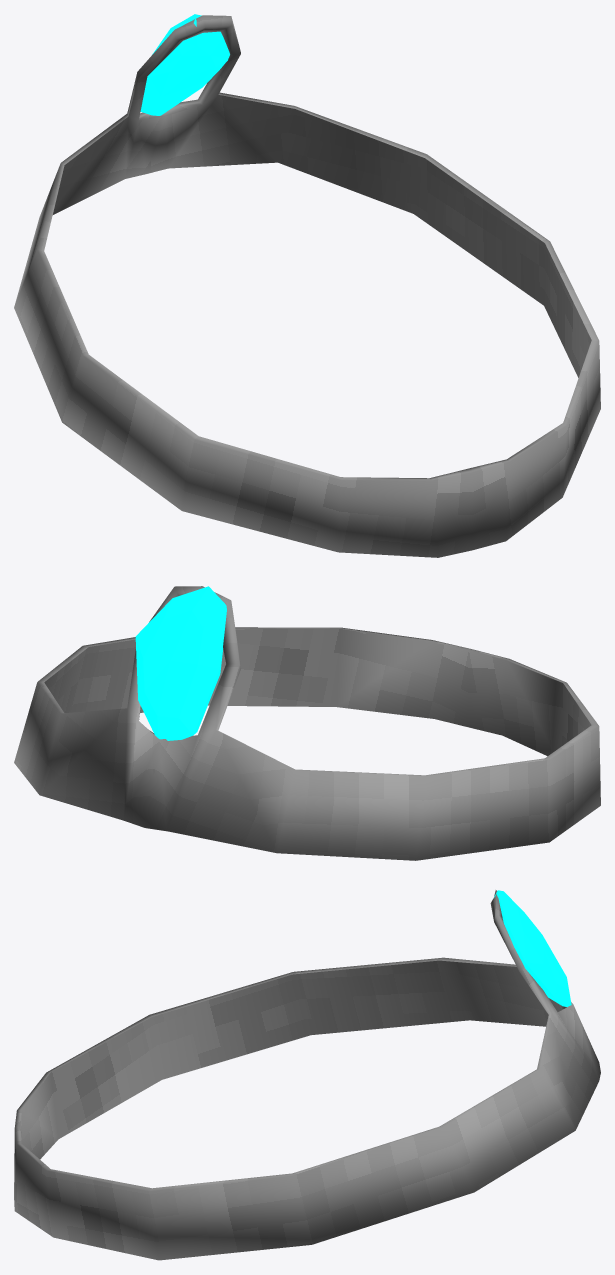
The model's file is HelmetDverger.fbx.
The picture shows the model from 3 angles, top to bottom: view 1: azimuth 30°, elevation 25°; view 2: azimuth 150°, elevation 25°; view 3: azimuth 270°, elevation 25°; orthographic projection. The views are drawn at different scales.
Visible parts, largest first — view 1: bronzehelmet; view 2: bronzehelmet; view 3: bronzehelmet.
Part boxes in pixels (x1,y1,x2,y2): bronzehelmet: [14, 14, 600, 557]; bronzehelmet: [14, 586, 600, 860]; bronzehelmet: [14, 890, 600, 1260].
Bounding box in the file's own units: 19.77 × 13.17 × 23.08.
2 materials, 1 textured.
